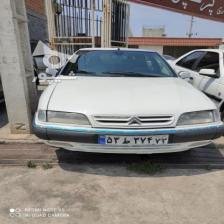plate: (97, 134, 169, 144)
